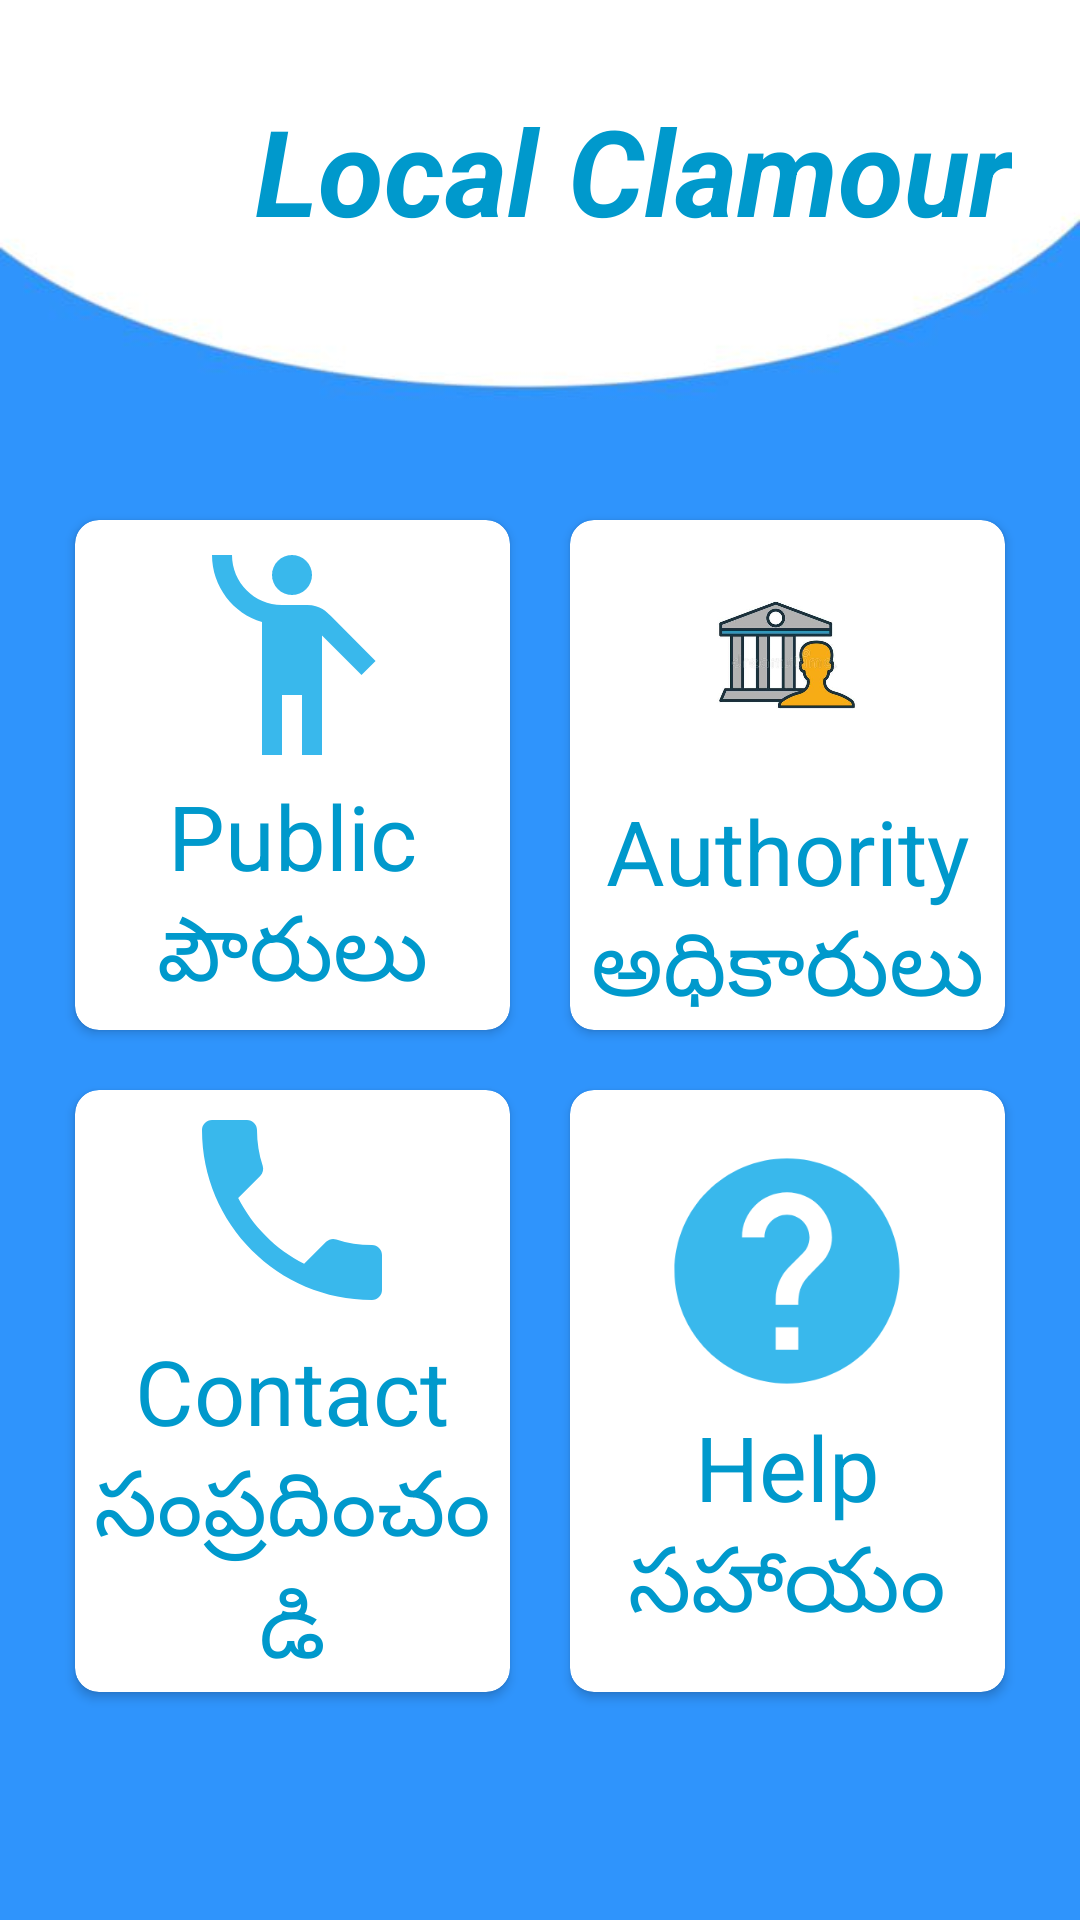

Where icons sit on this 1080w x 1920h app screen, as (x1, y1, x2, y2):
emoji people: (212, 555, 376, 755)
local phone: (202, 1120, 382, 1300)
